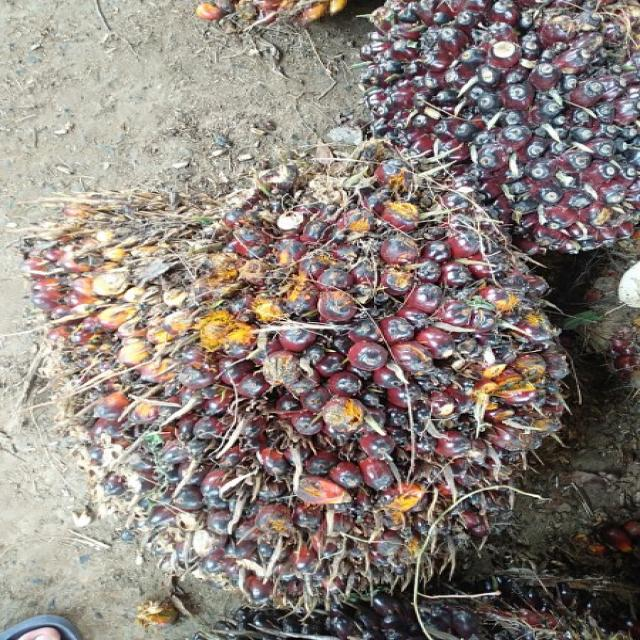fraksi 1: (12, 129, 574, 583)
